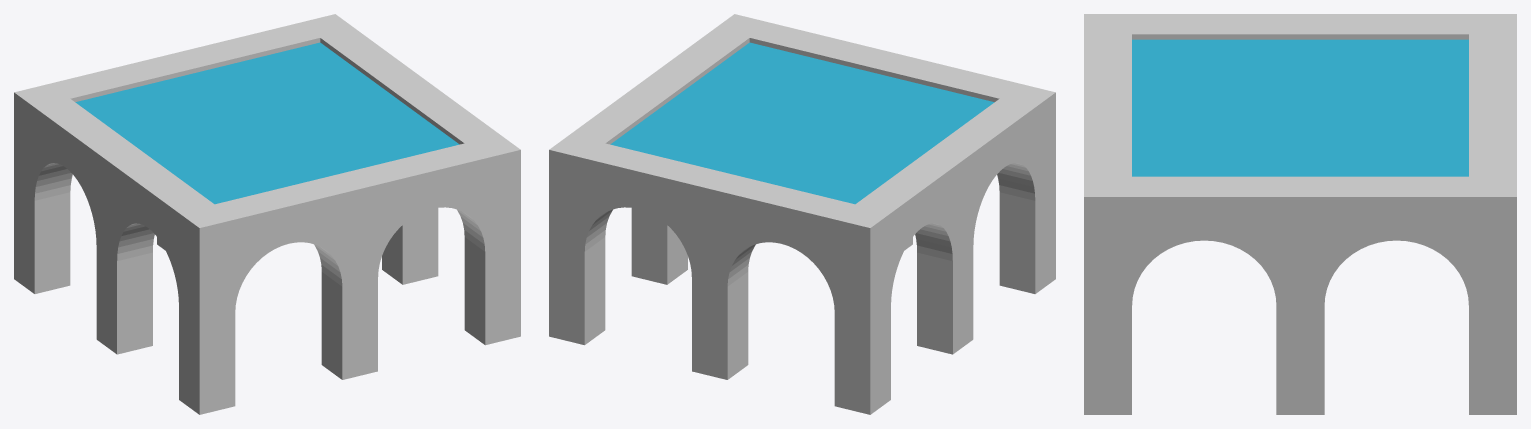
Rendered from waterArchBridge.obj.
3 views of the same model, side by side, from view 1: azimuth 30°, elevation 25°; view 2: azimuth 150°, elevation 25°; view 3: azimuth 270°, elevation 25° (orthographic). The views are drawn at different scales.
Parts seen in each view (by area): view 1: block, water; view 2: block, water; view 3: block, water.
Part boxes in pixels (x1,y1,x2,y2): block: [14, 14, 520, 414]; water: [75, 42, 459, 204]; block: [549, 14, 1055, 414]; water: [610, 42, 994, 204]; block: [1084, 14, 1516, 414]; water: [1132, 39, 1468, 176].
Size of the model in its own units: 9 by 5 by 9.
